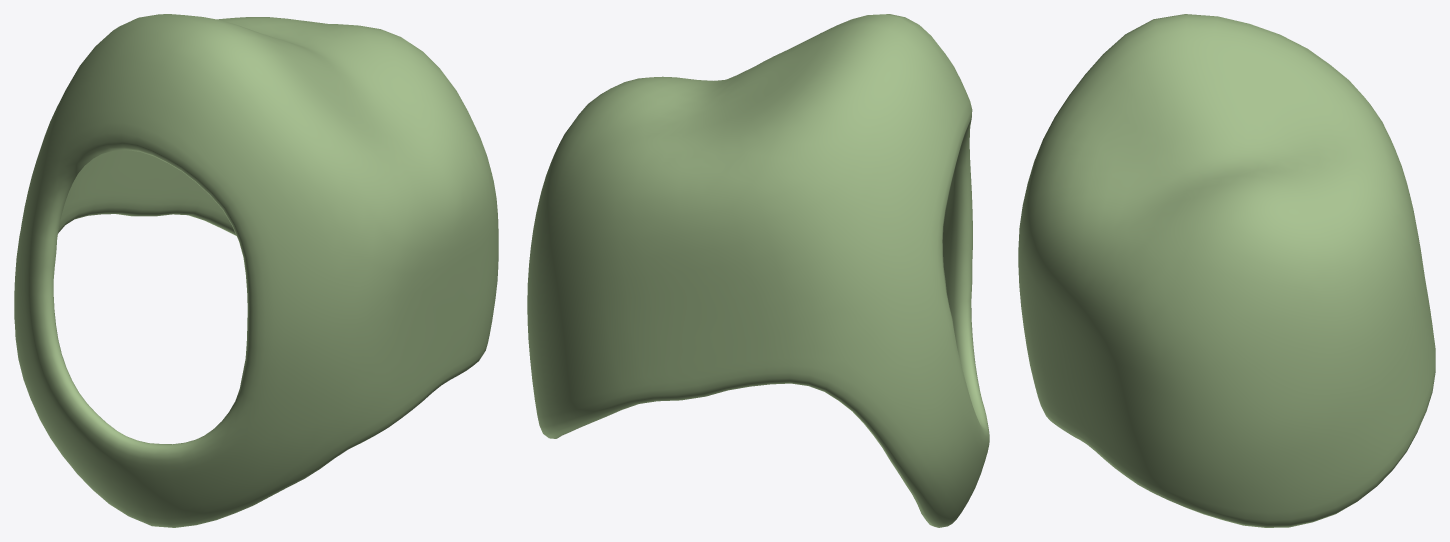
Rendered from BL5_Frame_Classic.001 3.glb.
3 renders of one model, left to right at view 1: azimuth 30°, elevation 25°; view 2: azimuth 150°, elevation 25°; view 3: azimuth 270°, elevation 25°, orthographic. The views are drawn at different scales.
Parts seen in each view (by area): view 1: BL5_Frame_Classic.001; view 2: BL5_Frame_Classic.001; view 3: BL5_Frame_Classic.001.
Boxes of the visible parts, x1=… form: BL5_Frame_Classic.001: x1=14, y1=14, x2=498, y2=527; BL5_Frame_Classic.001: x1=527, y1=14, x2=989, y2=527; BL5_Frame_Classic.001: x1=1018, y1=14, x2=1435, y2=527.
Size of the model in its own units: 0.8307 by 0.8891 by 0.7506.
